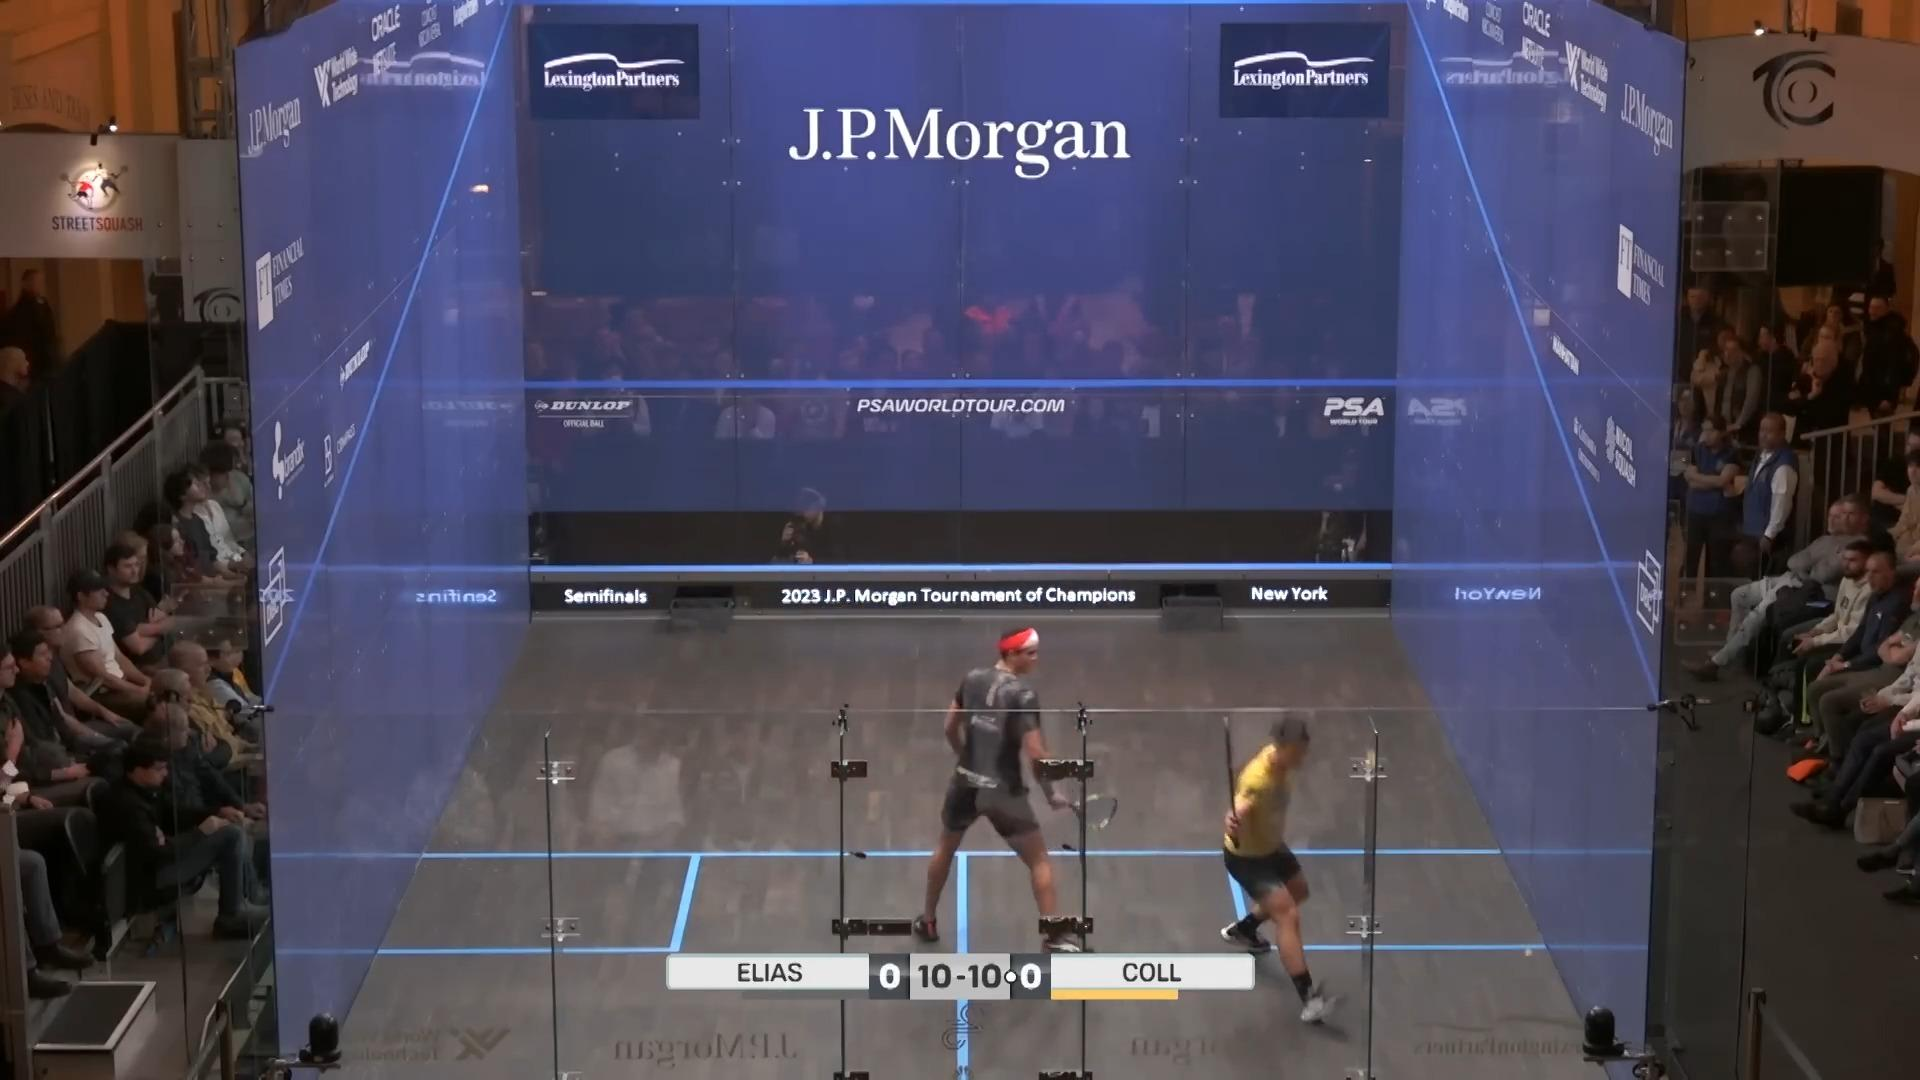Racket: (1212, 711, 1253, 848), (1059, 796, 1145, 847)
